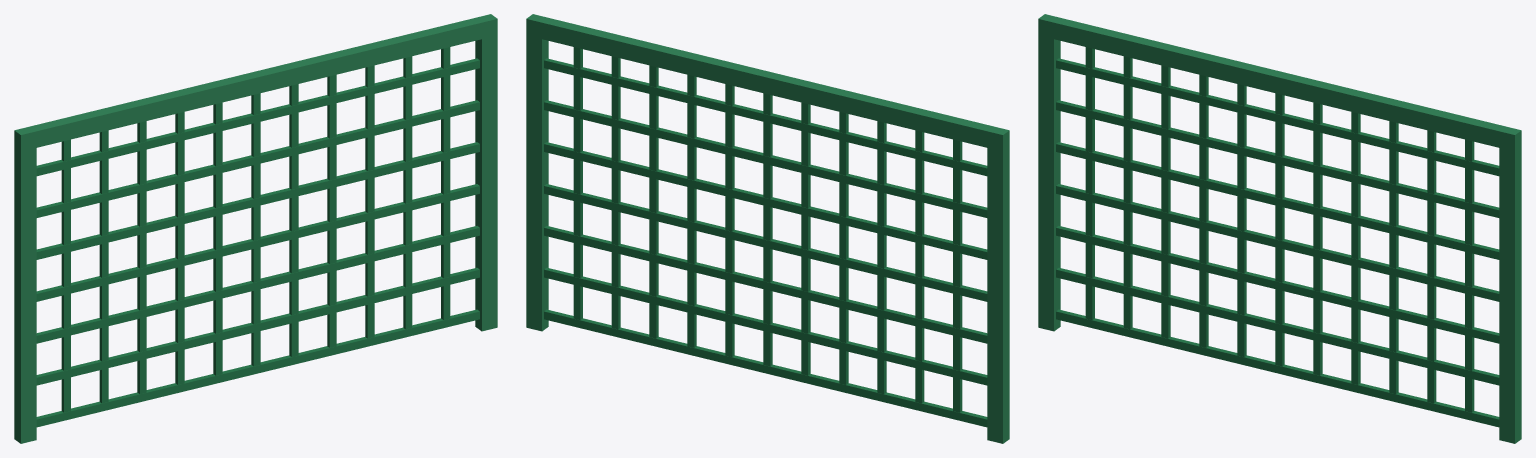
File: Fence_1_B_3.fbx
3 views of the same model, side by side, from view 1: azimuth 30°, elevation 25°; view 2: azimuth 150°, elevation 25°; view 3: azimuth 330°, elevation 25° (orthographic).
Parts seen in each view (by area): view 1: Fence_1_B_3; view 2: Fence_1_B_3; view 3: Fence_1_B_3.
Boxes of the visible parts, x1=… form: Fence_1_B_3: x1=14, y1=14, x2=497, y2=443; Fence_1_B_3: x1=526, y1=14, x2=1009, y2=443; Fence_1_B_3: x1=1038, y1=14, x2=1521, y2=443.
Size of the model in its own units: 400 by 248 by 9.6.
